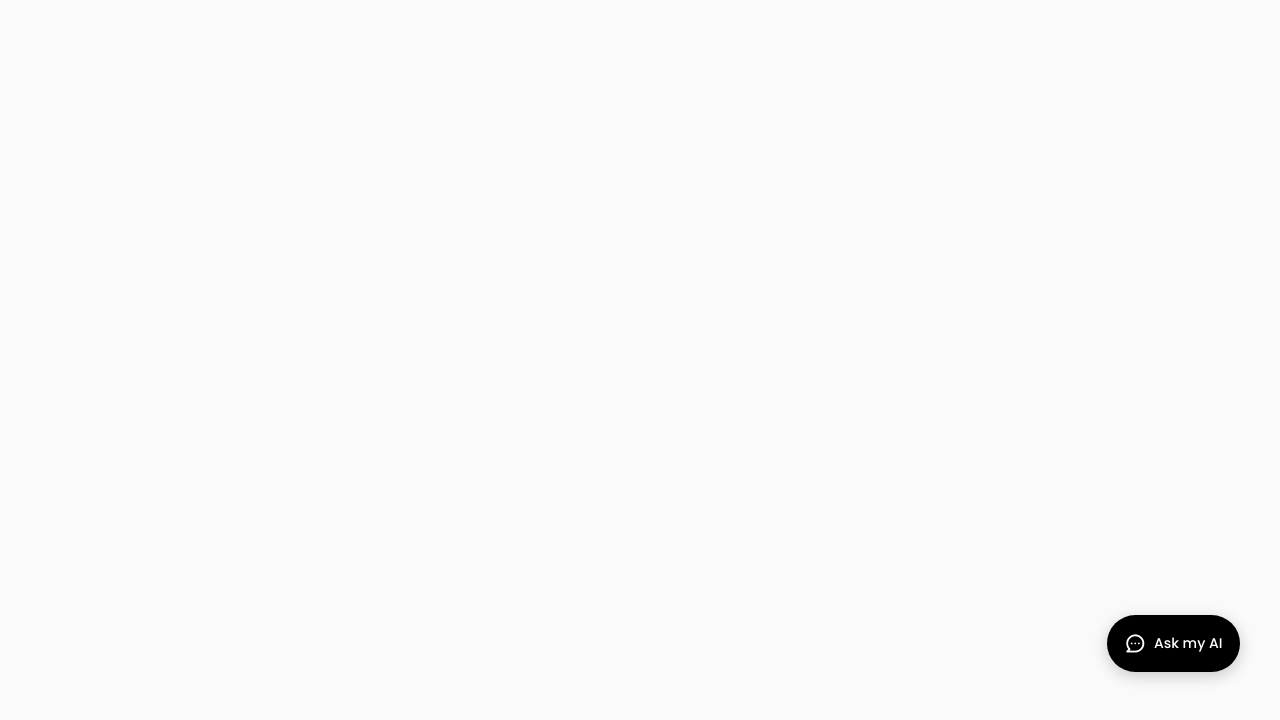
Test: ChatWidget › shows a typing indicator and blocks sending while waiting
Click the button with aria-label "open chat" at [1173, 644], box [1107,615,1240,672]
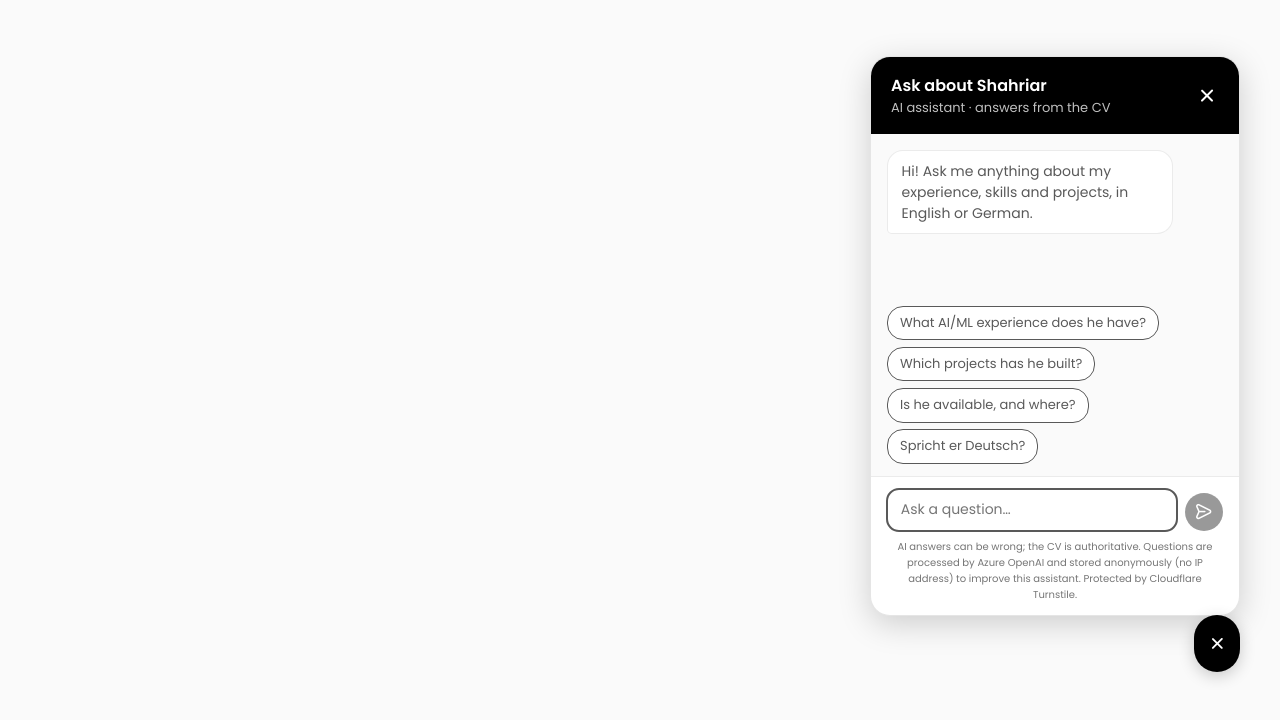
Type "q1" into the text box named "Your question" at [1032, 510], box [887,489,1177,531]
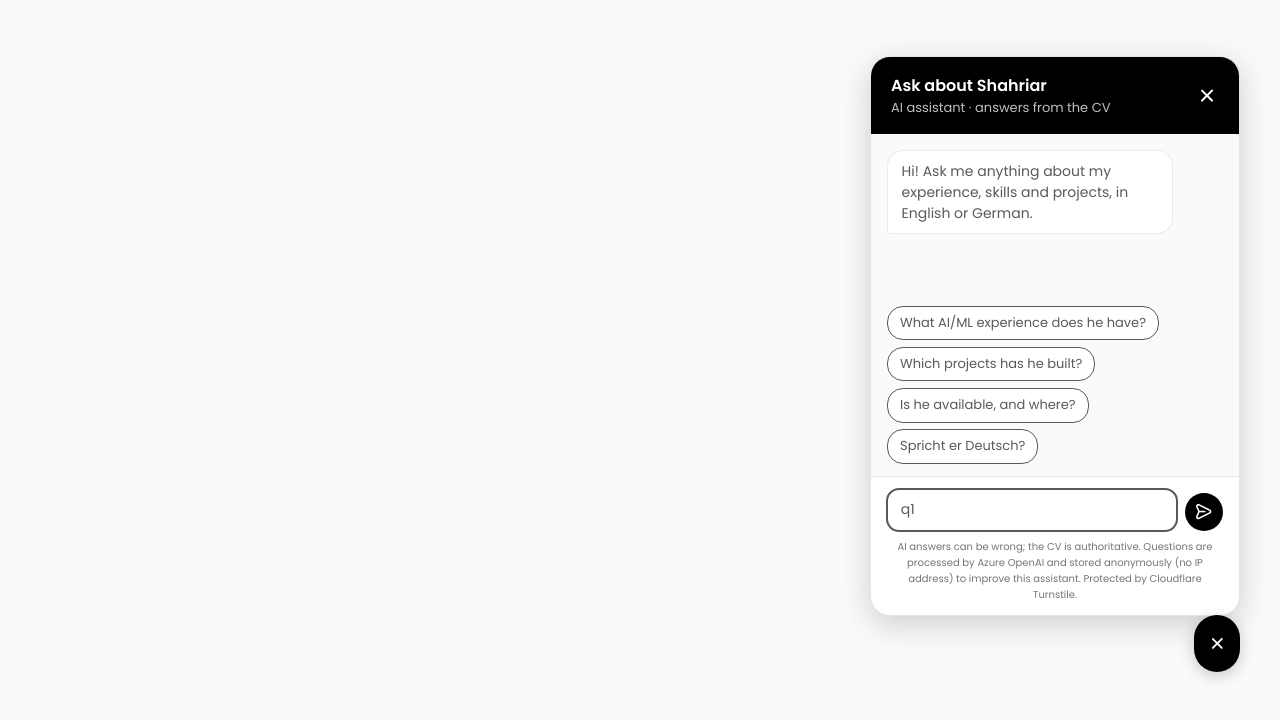
Press Enter in the text box named "Your question", box [887,489,1177,531]
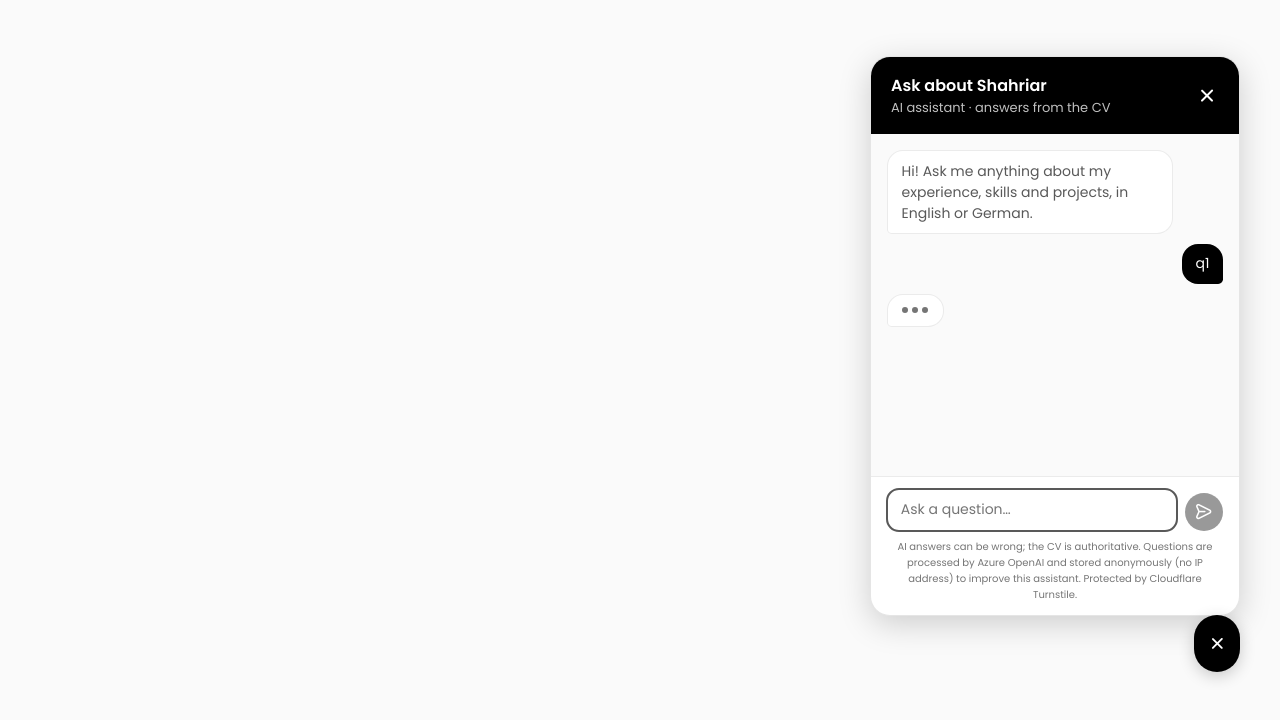
Now the message named "typing" is shown, box [887,294,944,327]
Type "q2" into the text box named "Your question" at [1032, 510], box [887,489,1177,531]
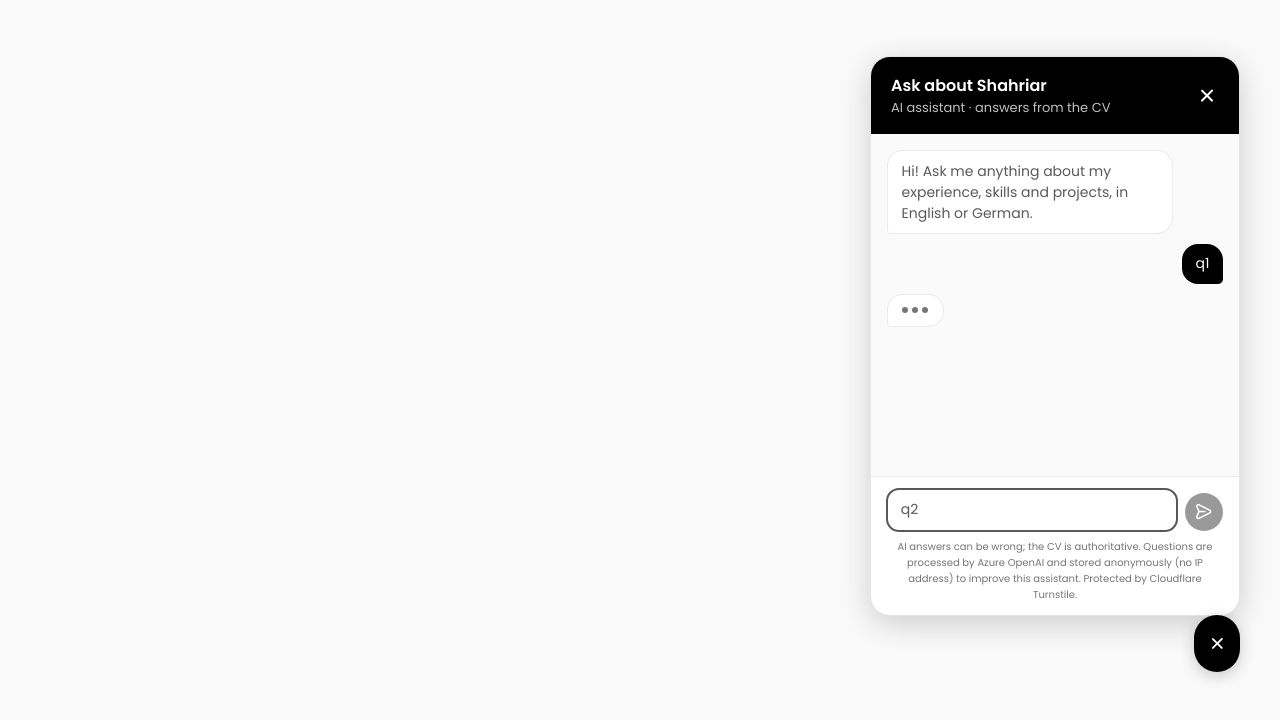
Now the button named "Send" is disabled, box [1185,493,1223,531]
Press Enter in the text box named "Your question", box [887,489,1177,531]
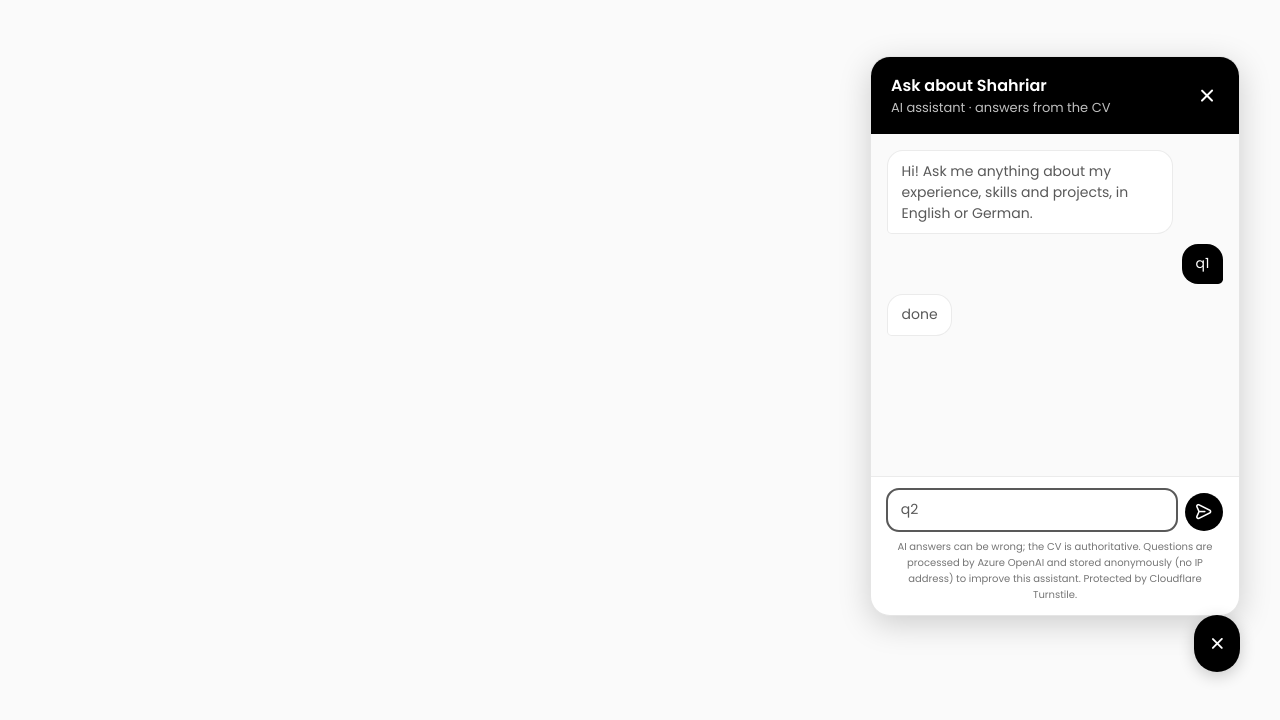
Now the text "done" is shown, box [887,294,952,336]
Now the message is gone
